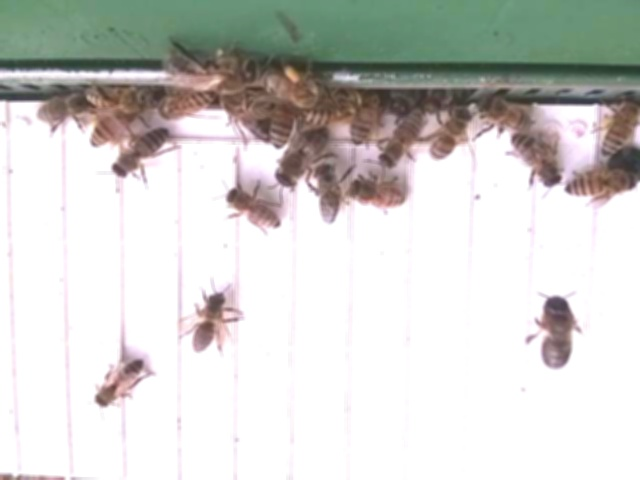Drone: (272, 127, 334, 191), (533, 292, 578, 375)
Worker: (107, 124, 174, 184), (217, 180, 287, 237), (417, 108, 480, 164), (376, 106, 428, 172), (507, 132, 565, 190), (590, 94, 640, 161), (89, 356, 149, 411), (186, 288, 231, 357), (349, 173, 412, 220), (560, 167, 640, 203), (476, 95, 536, 143), (310, 159, 344, 231), (33, 89, 95, 128), (156, 89, 219, 124)
